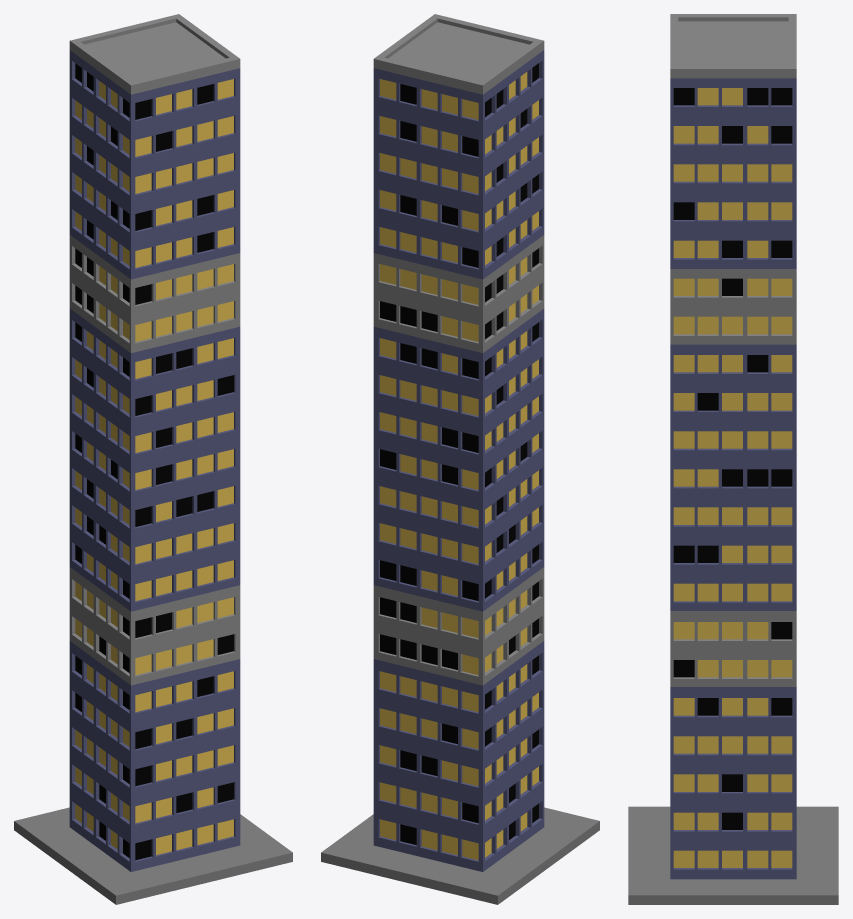
File: HouseTier4.fbx
The picture shows the model from 3 angles, left to right: view 1: azimuth 30°, elevation 25°; view 2: azimuth 150°, elevation 25°; view 3: azimuth 270°, elevation 25°; orthographic projection. The views are drawn at different scales.
Parts seen in each view (by area): view 1: Cube.014; view 2: Cube.014; view 3: Cube.014.
Boxes of the visible parts, bbox=[...] form: Cube.014: bbox=[14, 14, 292, 904]; Cube.014: bbox=[321, 14, 599, 904]; Cube.014: bbox=[628, 14, 838, 904].
Size of the model in its own units: 2000 by 8600 by 2000.
